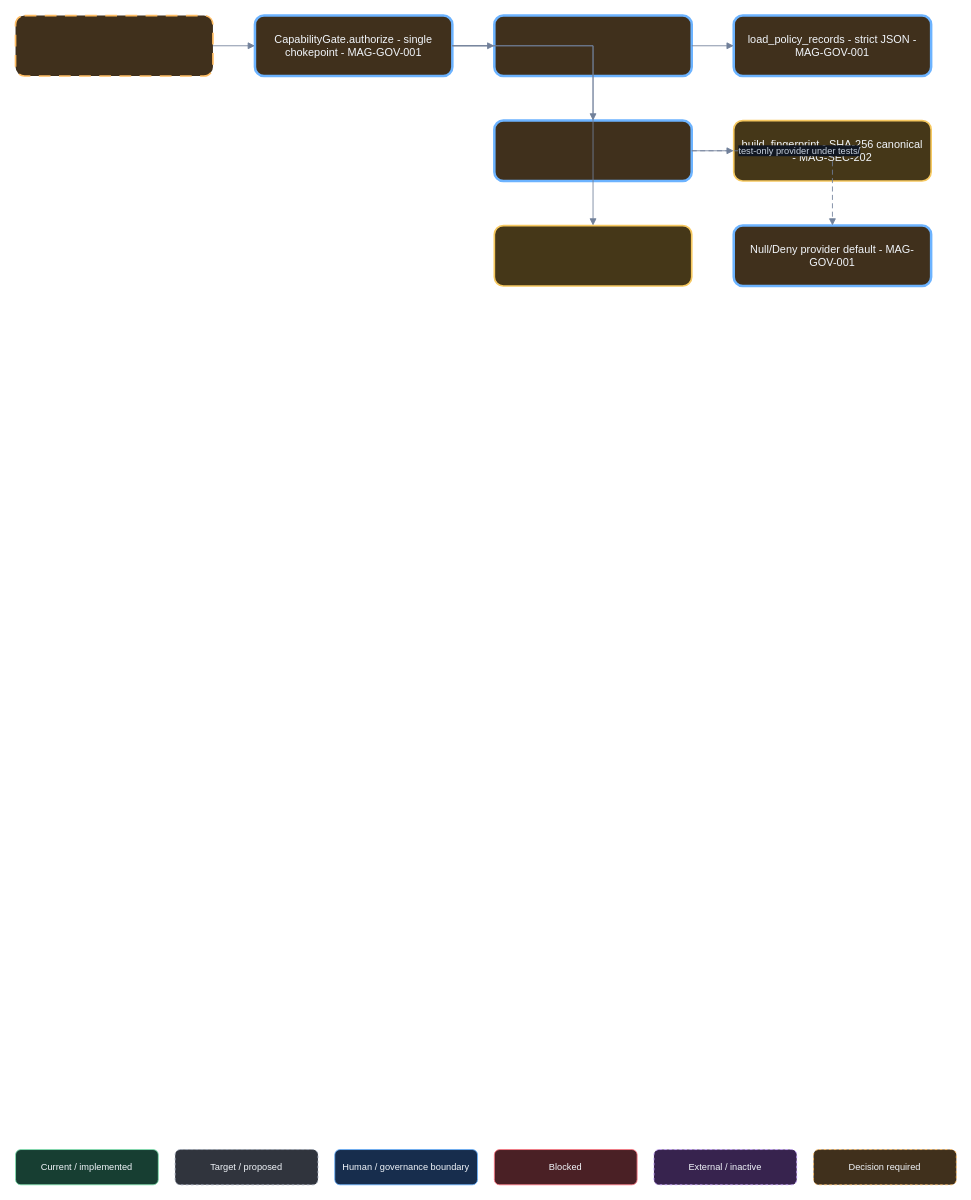
This 971x1200 diagram has some shape labels left out. The shapes that lost their labels are listed below. From the top down, each one's box as (x1, y1, x2, y2) in pixels, then its label:
(14, 14, 213, 76): Capability request - harness - MAG-TOL-001
(493, 14, 693, 77): PolicyEvaluator.evaluate - default-deny - MAG-GOV-001
(493, 119, 693, 182): ApprovalCoordinator.consume - MAG-GOV-001
(493, 224, 692, 286): SecureAuditSink - 0600 hash-chain JSONL - MAG-SEC-202 MAG-OBS-001
